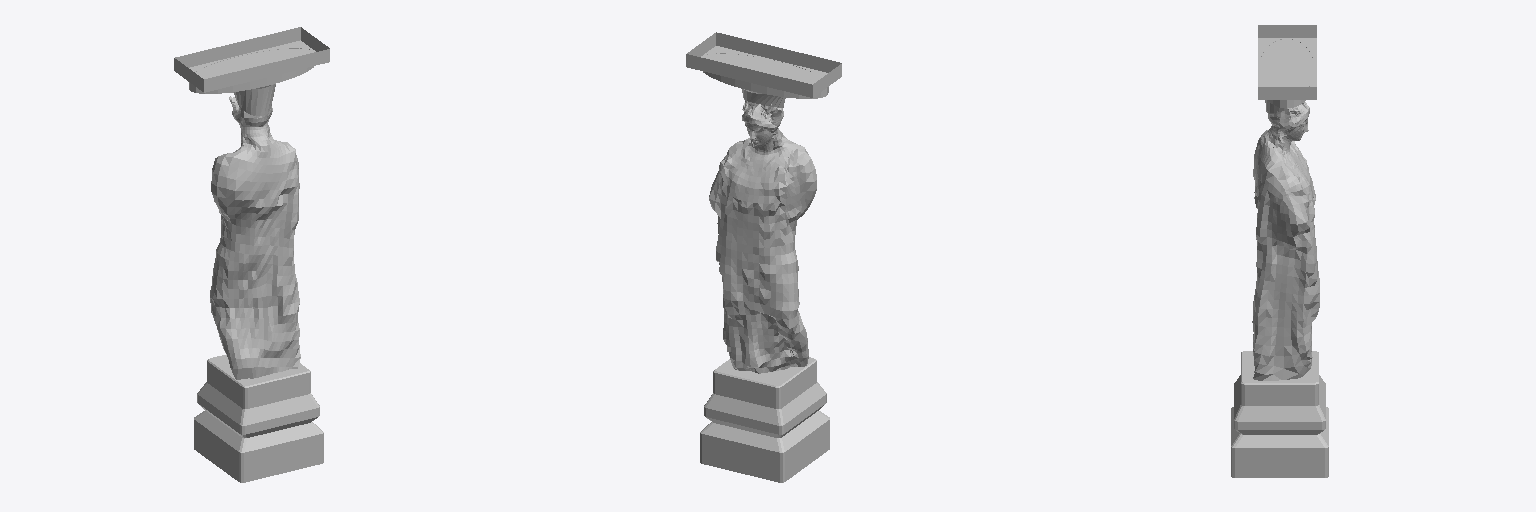
The model's file is _opepillar.obj.
3 views of the same model, side by side, from view 1: azimuth 30°, elevation 25°; view 2: azimuth 150°, elevation 25°; view 3: azimuth 270°, elevation 25° (orthographic).
Visible parts, largest first — view 1: _opepillar; view 2: _opepillar; view 3: _opepillar.
Boxes of the visible parts, x1,y1,x2,y2 form: _opepillar: [174, 27, 329, 482]; _opepillar: [686, 32, 841, 482]; _opepillar: [1231, 25, 1328, 477].
Bounding box in the file's own units: 8.39 × 25.41 × 5.61.